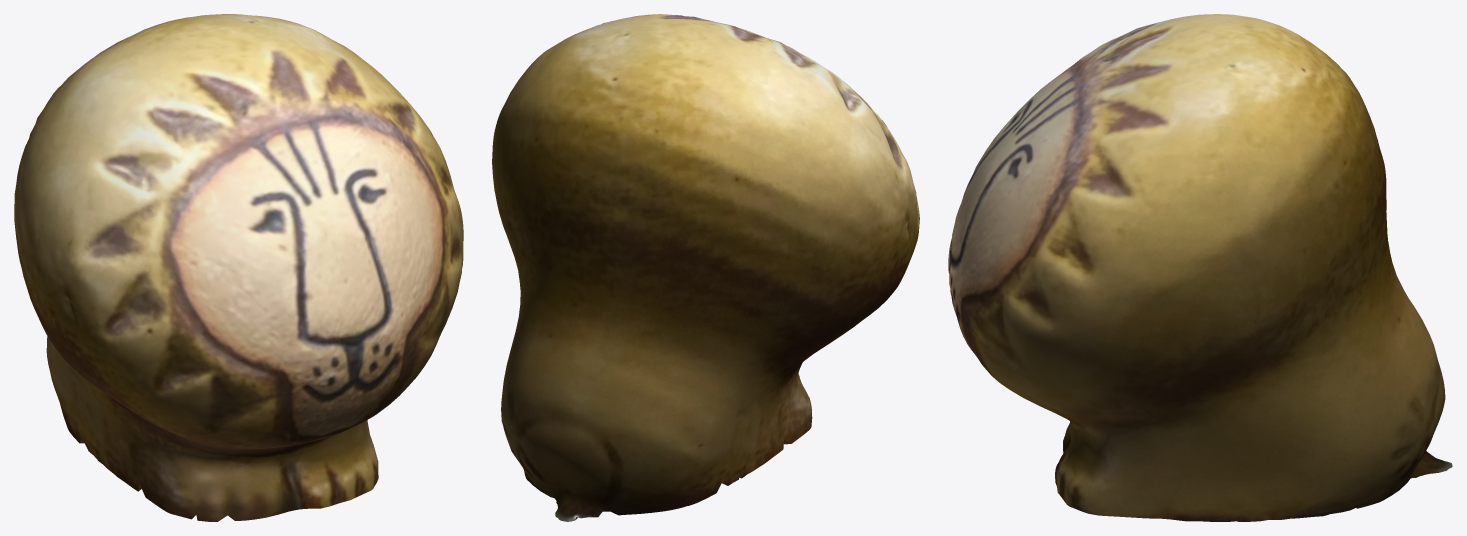
The model's file is 270993d4-e2b4-45d5-91aa-1aabcb259e28.glb.
The picture shows the model from 3 angles, left to right: view 1: azimuth 30°, elevation 25°; view 2: azimuth 150°, elevation 25°; view 3: azimuth 270°, elevation 25°; orthographic projection. The views are drawn at different scales.
Visible parts, largest first — view 1: scan; view 2: scan; view 3: scan.
Boxes of the visible parts, x1,y1,x2,y2 form: scan: (14, 14, 463, 521); scan: (492, 14, 919, 521); scan: (948, 14, 1452, 521).
Bounding box in the file's own units: 0.0507 × 0.0525 × 0.0566.
1 material, 1 textured.
